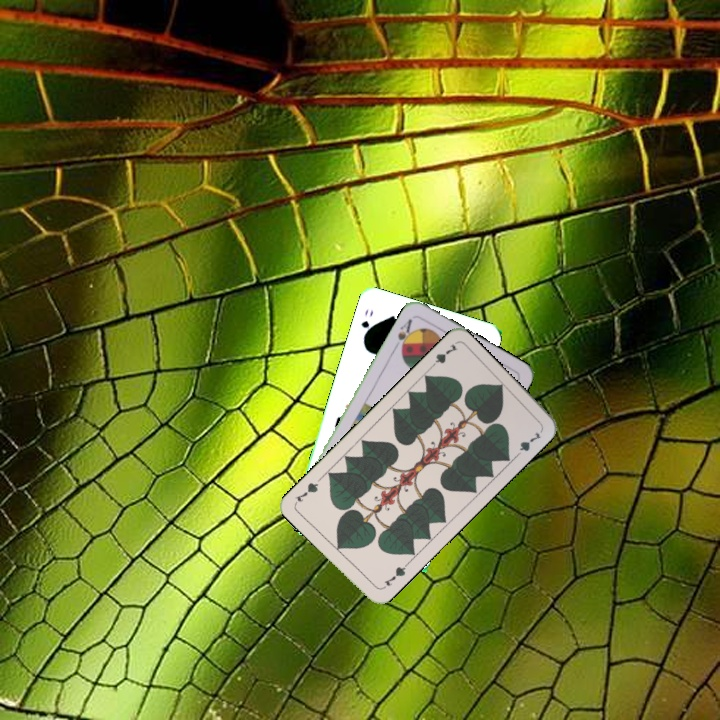G7: (425, 340, 460, 372), (380, 559, 410, 589)
GO: (357, 305, 376, 342)
SA: (390, 315, 417, 354)
